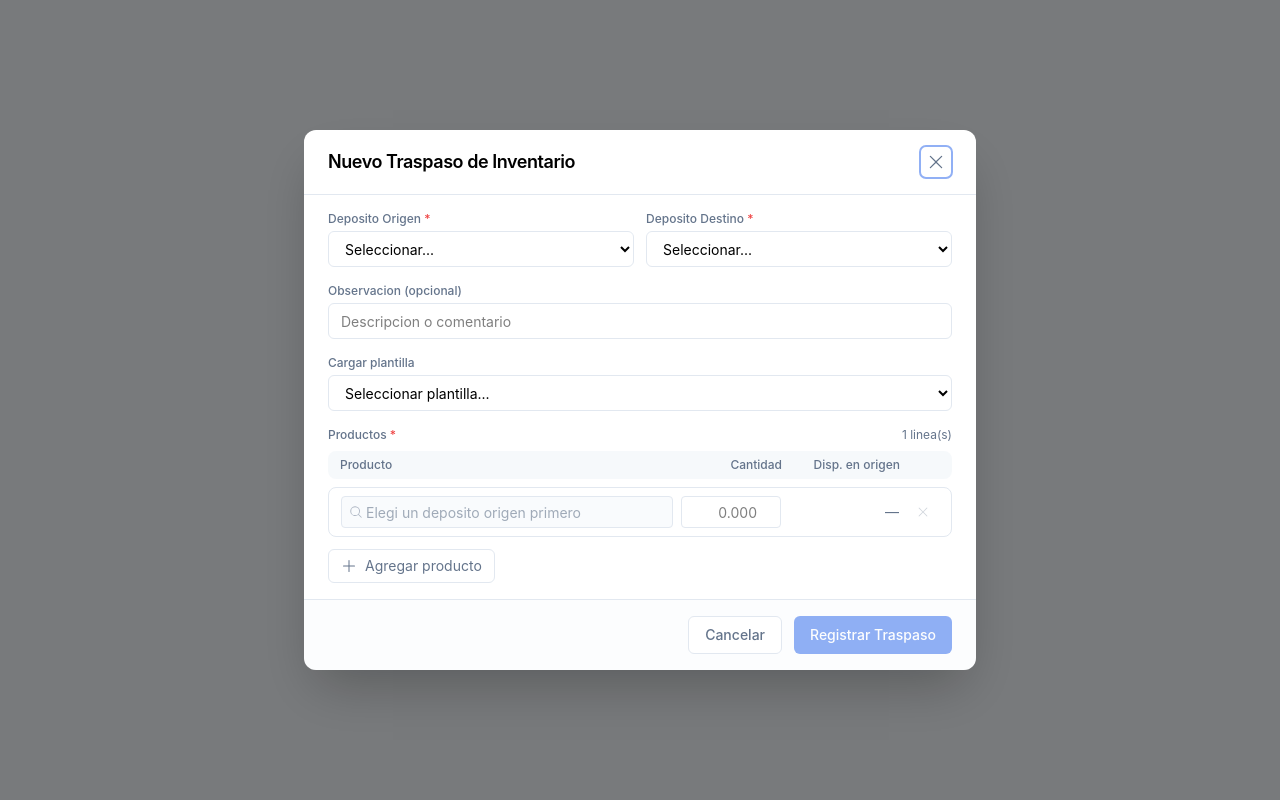
TraspasoForm — deposito origen/destino (TRI/Traspaso Atomico Individual) › permite quitar una linea con el boton de remover
This screenshot has width=1280, height=800.
Note: Con origen elegido el buscador se habilita (placeholder "Buscar producto...").
Select "Deposito A" in the dropdown labelled "Deposito Origen *" at x=481, y=249, box [328, 231, 634, 267]
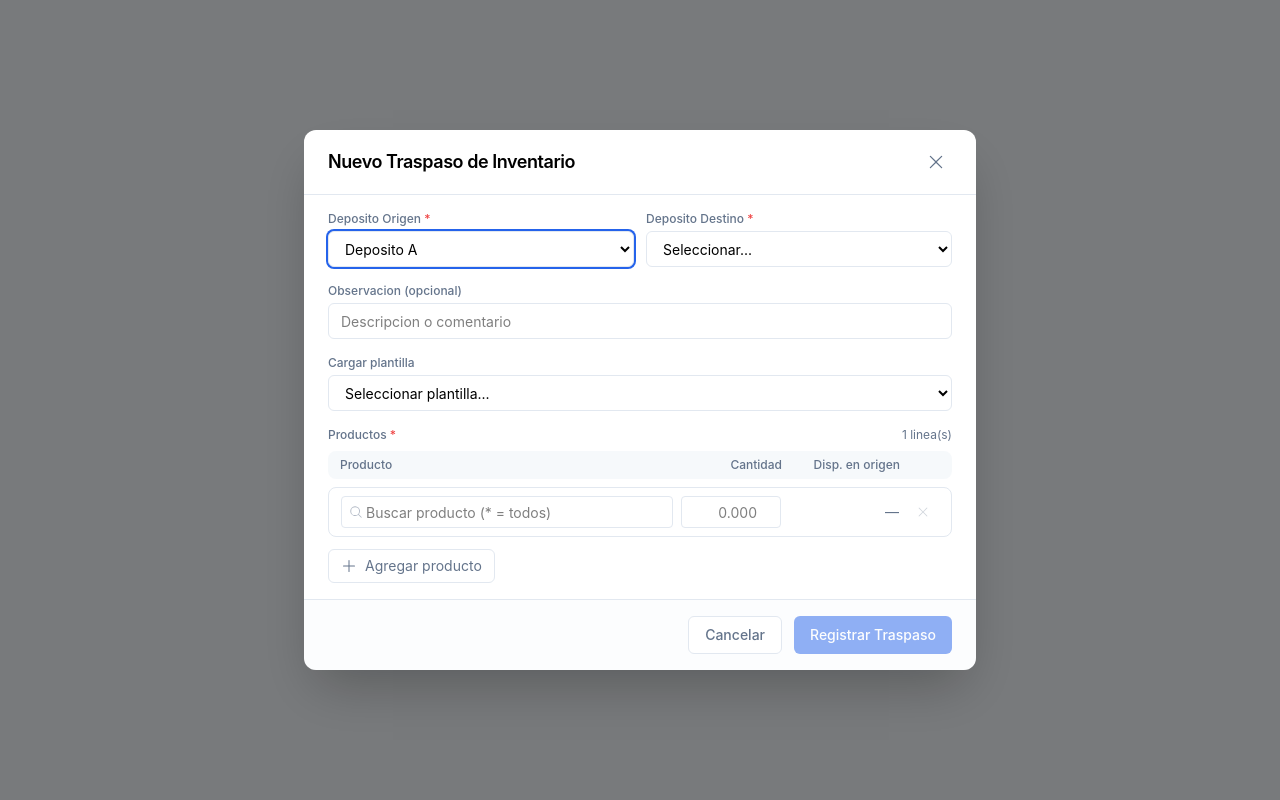
Click the button "Agregar producto".
click(411, 566)  # box [328, 549, 495, 583]
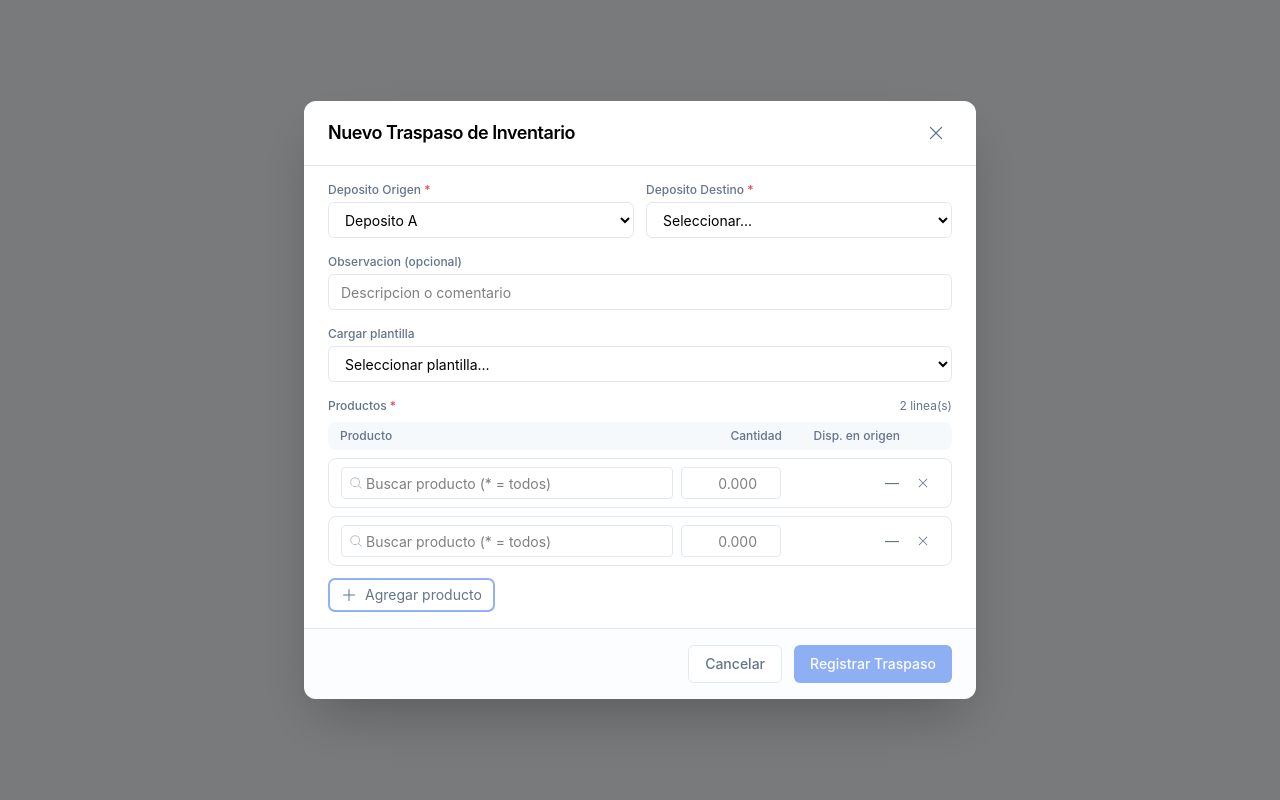
Expected: the number of fields with placeholder "Buscar producto (* = todos)" is 2, [341, 467, 673, 499]; [341, 525, 673, 557]
Click the 1st button named "quitar linea".
click(923, 483)  # box [912, 472, 934, 494]
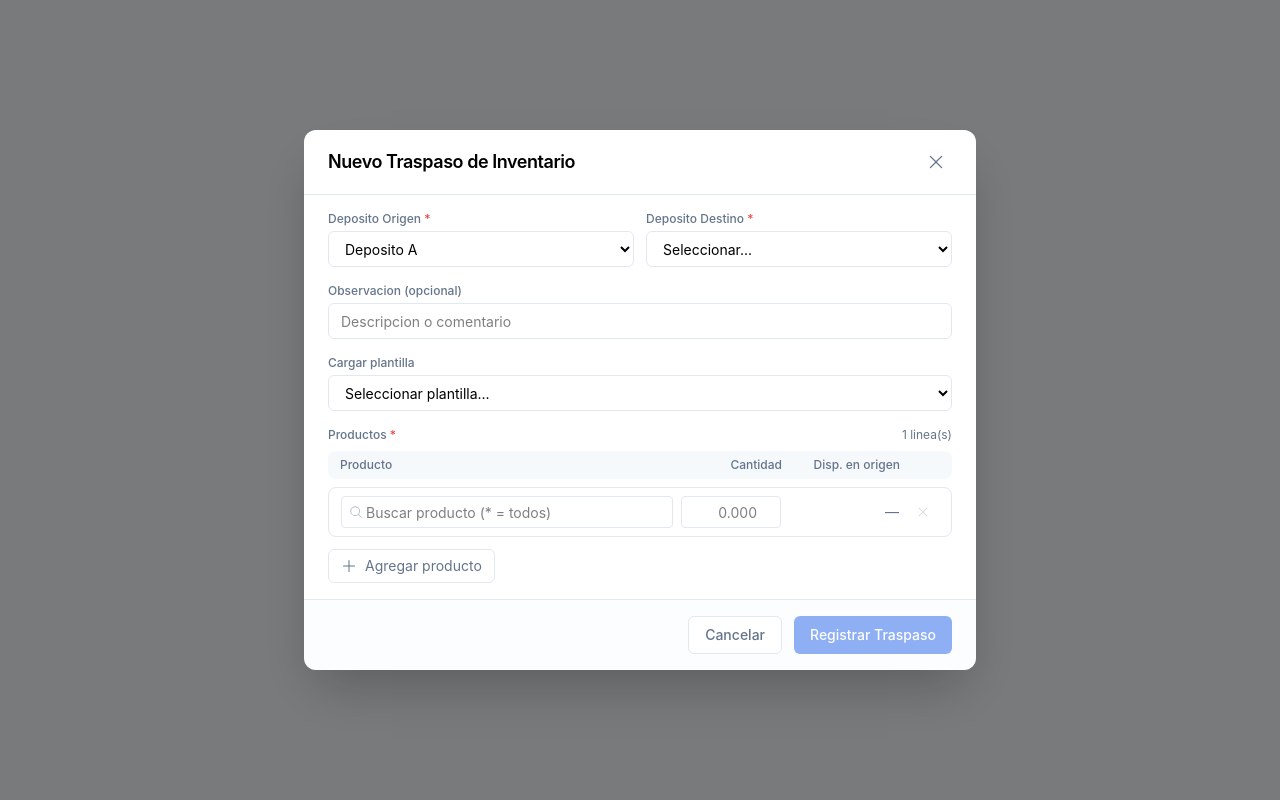
Expected: the number of fields with placeholder "Buscar producto (* = todos)" is 1, [341, 496, 673, 528]
